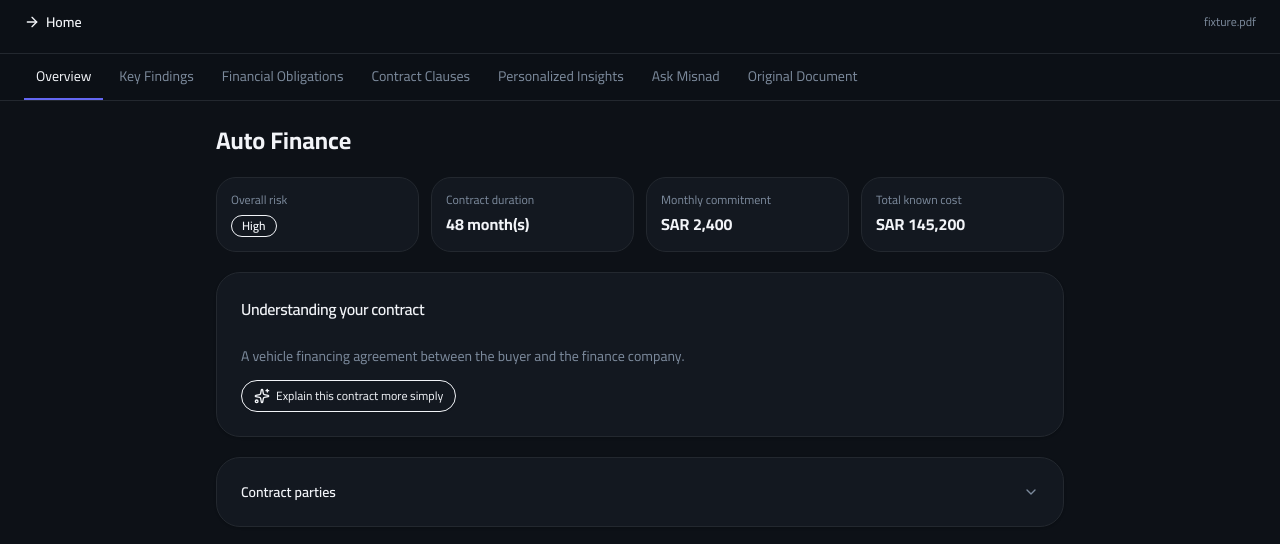
Test: V2 ResultsScreen › surfaces the high-risk clause in the Executive Summary tab
What coordinates should you click on to do the following:
click the tab with test id "tab-trigger-executiveSummary"
I would click on:
 (156, 77)
Its box is [107,54,206,100].
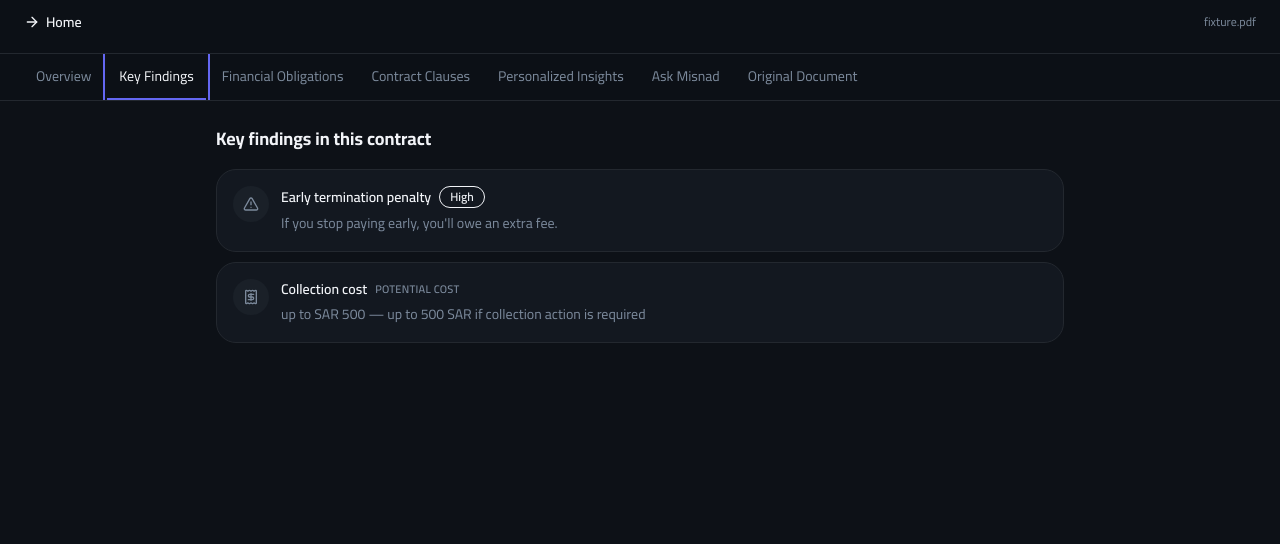
Result: the element with test id "executive-finding-risk_clause" shows "Early termination penalty" at [281,184,431,210]
